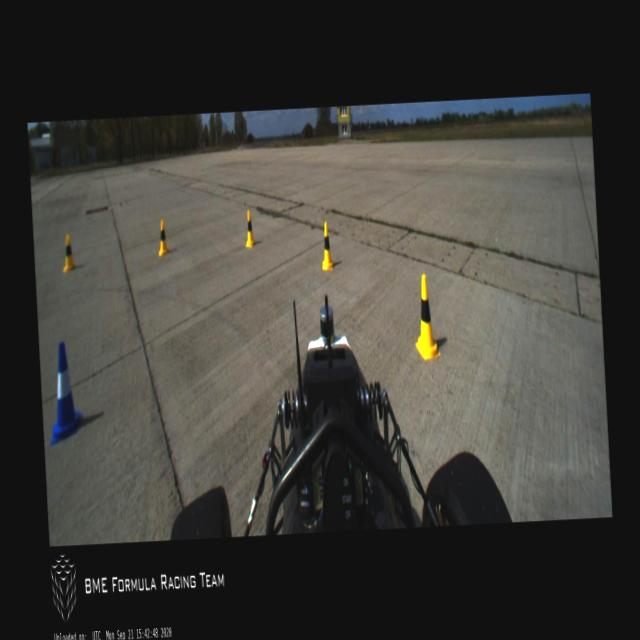blue_cone: (45, 342, 84, 445)
yellow_cone: (412, 274, 442, 361), (320, 220, 334, 270), (61, 232, 76, 274), (156, 218, 170, 256), (243, 210, 256, 247)
